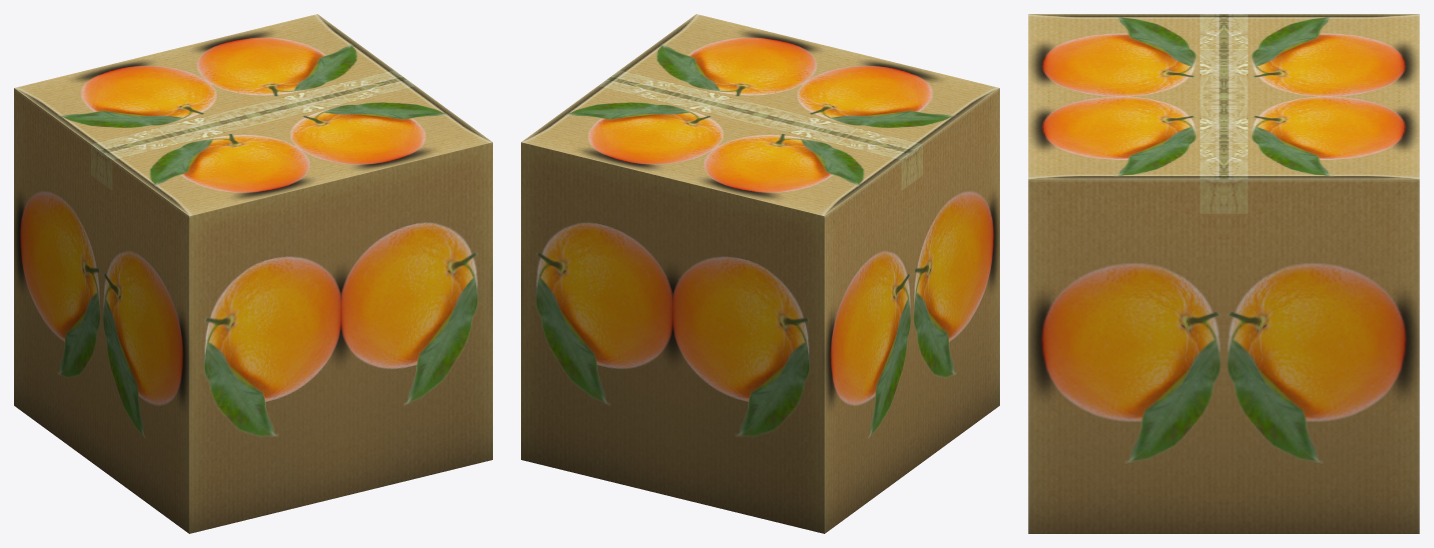
File: orange_box.dae
3 views of the same model, side by side, from view 1: azimuth 30°, elevation 25°; view 2: azimuth 150°, elevation 25°; view 3: azimuth 270°, elevation 25° (orthographic). The views are drawn at different scales.
Visible parts, largest first — view 1: Conveyor_Box; view 2: Conveyor_Box; view 3: Conveyor_Box.
Part boxes in pixels (<box>): Conveyor_Box: <box>14,14,492,533</box>; Conveyor_Box: <box>521,14,999,533</box>; Conveyor_Box: <box>1028,14,1419,533</box>.
Size of the model in its own units: 397 by 397 by 397.
Materials: 1 (1 with a texture image).
